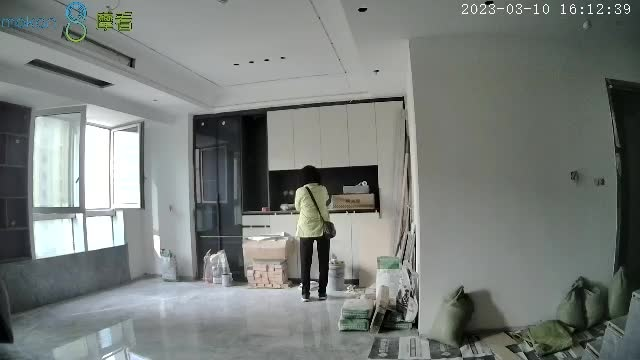people: (294, 166, 331, 302)
window: (33, 109, 134, 262)
